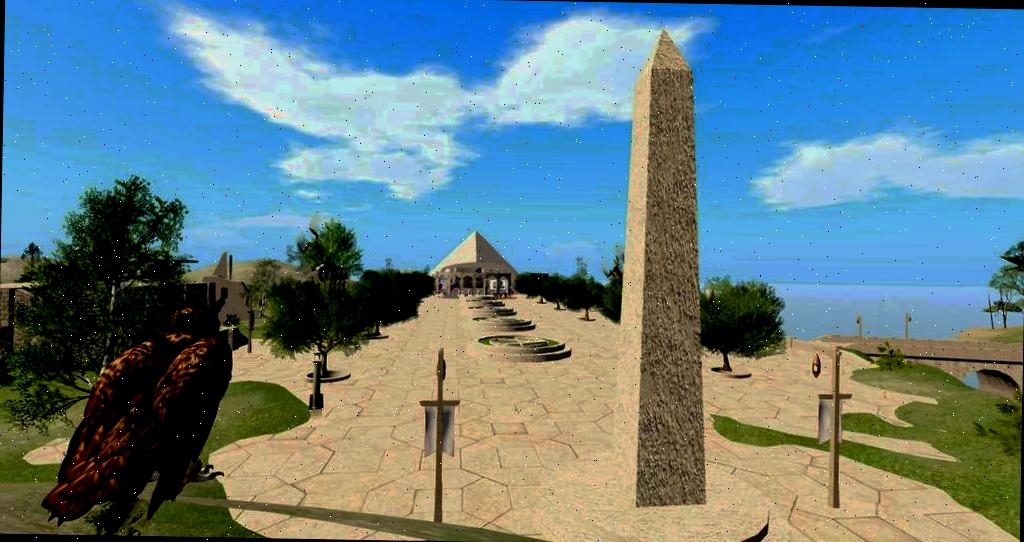Owl: (38, 278, 240, 536)
